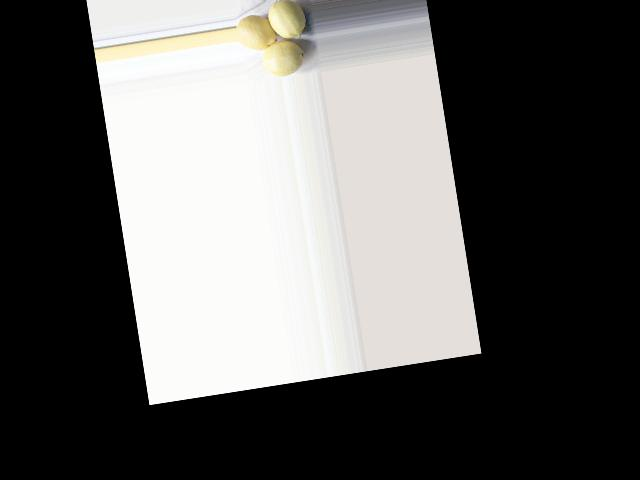lemon: (260, 40, 309, 79)
